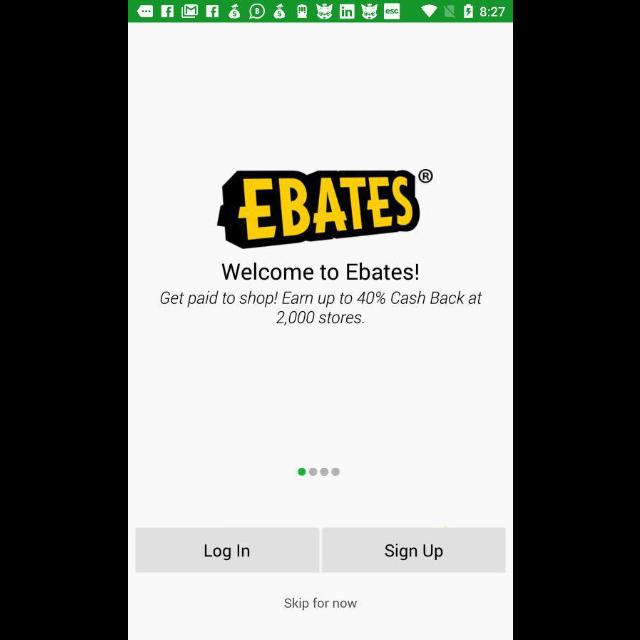image: (217, 168, 433, 250)
pageindicator: (298, 468, 340, 477)
text: (160, 290, 482, 326), (220, 262, 420, 282), (283, 596, 357, 612)
textbutton: (321, 527, 505, 573), (135, 528, 319, 572)
uppertaskbar: (128, 1, 512, 23)
